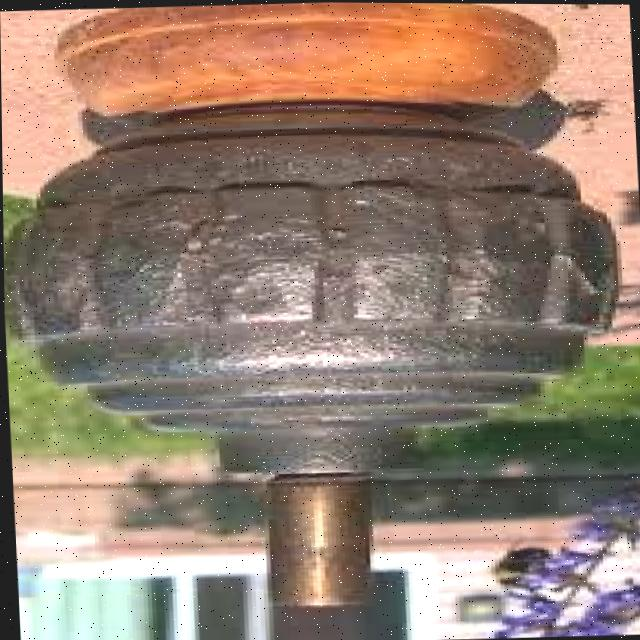grenade: (25, 101, 618, 626)
